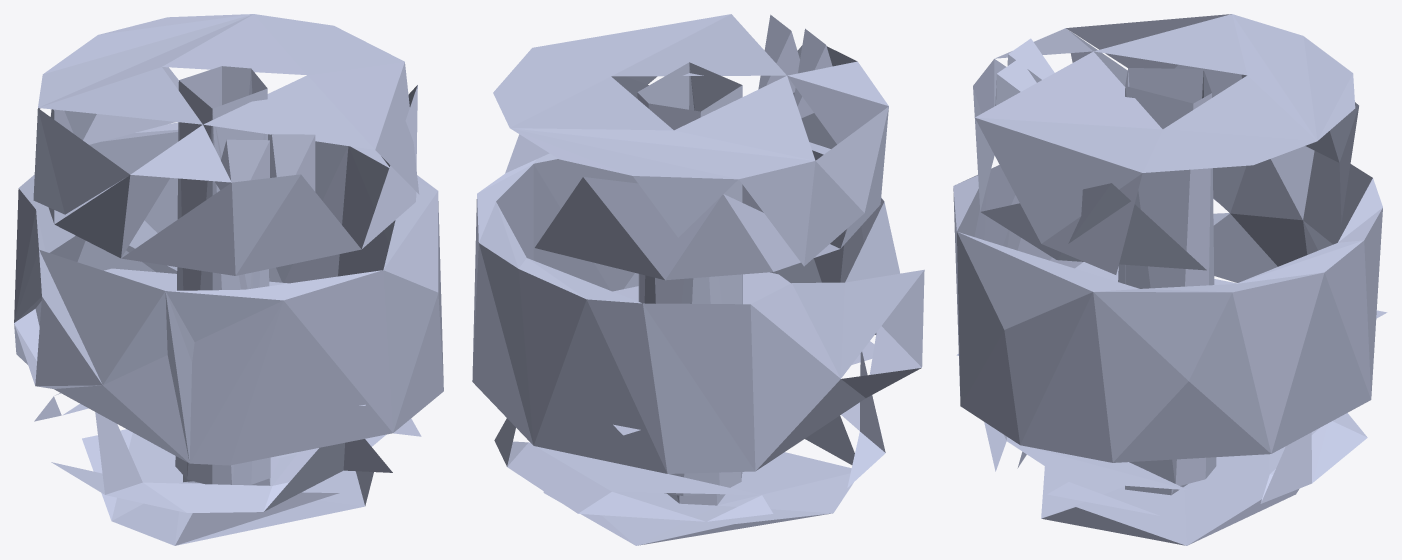
The model's file is agvl.SLDASM_ccrc12_visual_vis_1.dae.
3 renders of one model, left to right at view 1: azimuth 30°, elevation 25°; view 2: azimuth 150°, elevation 25°; view 3: azimuth 270°, elevation 25°, orthographic.
Visible parts, largest first — view 1: node; view 2: node; view 3: node.
Part boxes in pixels (x1,y1,x2,y2): node: (14, 14, 443, 545); node: (472, 14, 924, 545); node: (953, 14, 1387, 545).
Size of the model in its own units: 0.0619 by 0.0608 by 0.0584.
